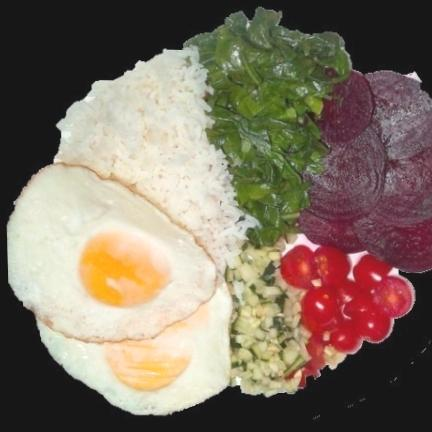beet: (299, 69, 431, 270)
egg: (7, 163, 231, 414)
green_vegetables: (184, 7, 348, 243), (225, 242, 307, 395)
rice: (54, 46, 256, 282)
tomato: (280, 244, 413, 385)
